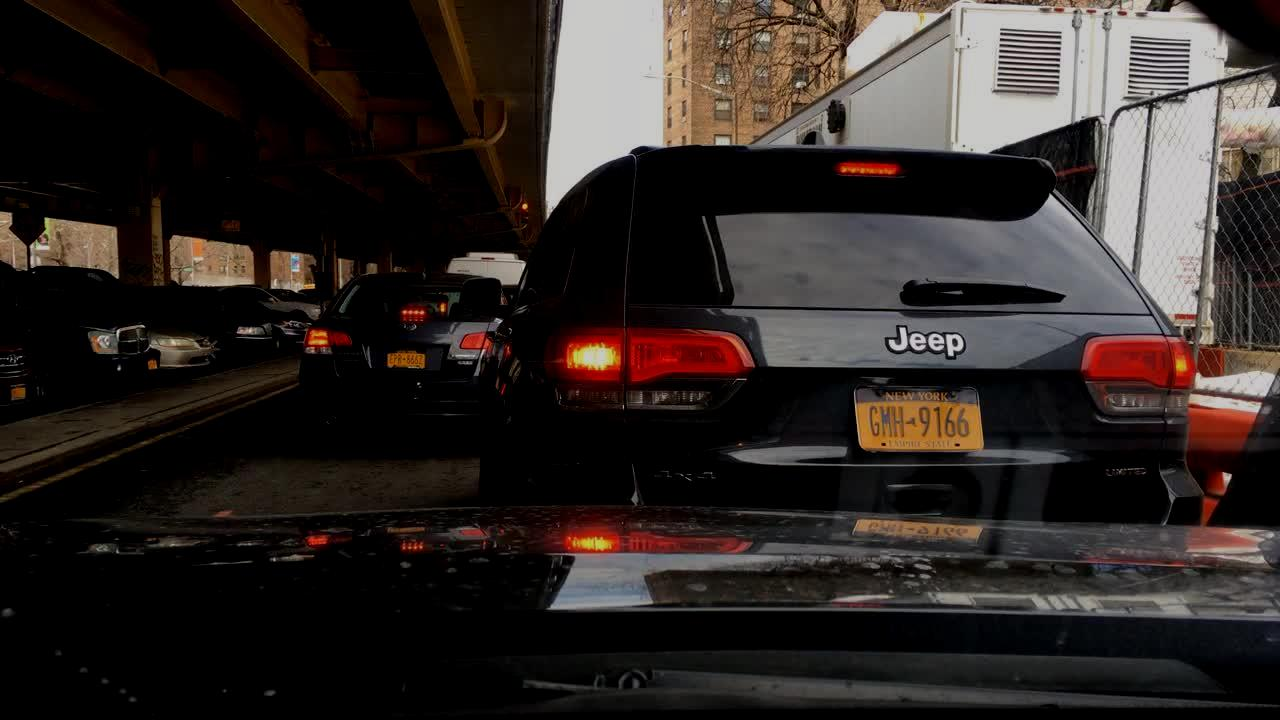jeep: (861, 305, 994, 381)
